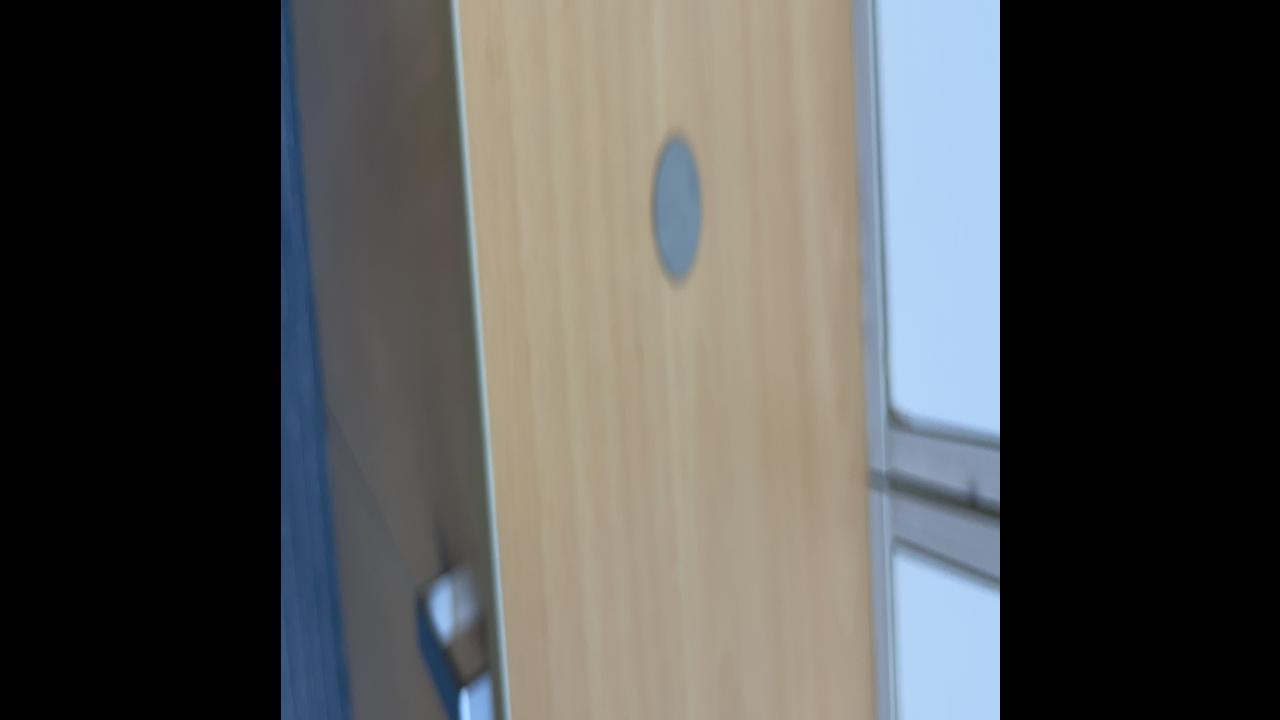coin: (649, 128, 704, 294)
